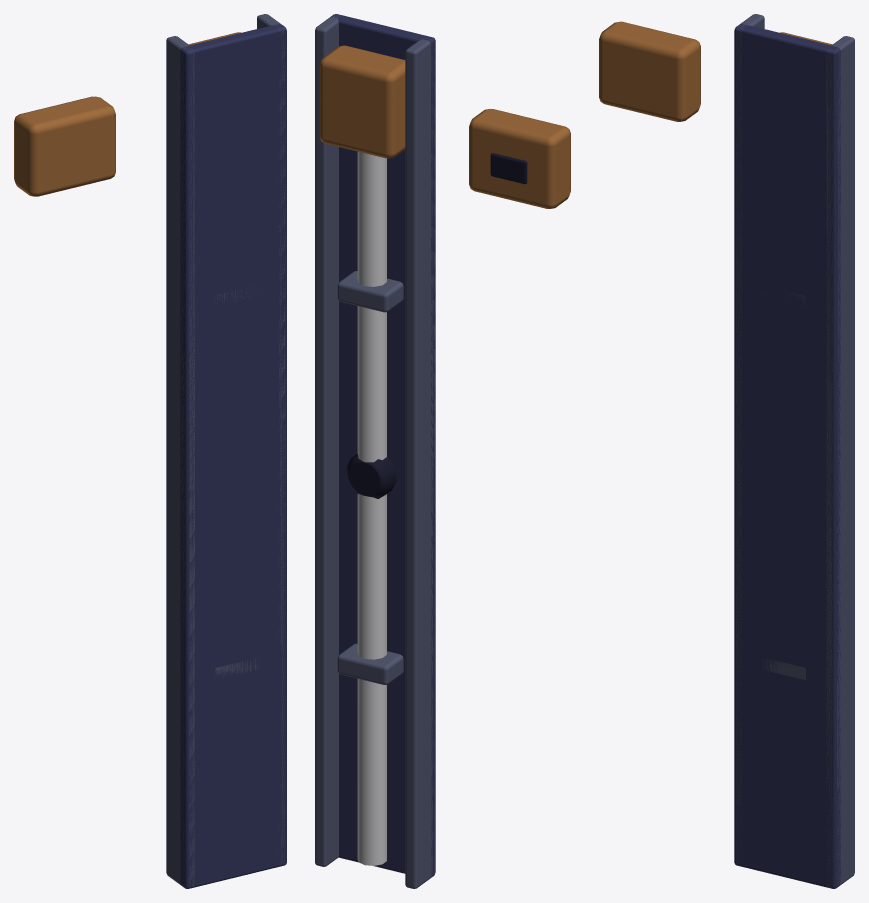
File: prop.props_walls.walls_qa_duct.glb
3 views of the same model, side by side, from view 1: azimuth 30°, elevation 25°; view 2: azimuth 150°, elevation 25°; view 3: azimuth 330°, elevation 25° (orthographic).
Visible parts, largest first — view 1: prop.props_walls.walls_qa_duct; view 2: prop.props_walls.walls_qa_duct; view 3: prop.props_walls.walls_qa_duct.
Boxes of the visible parts, left/top/right/bottom form: prop.props_walls.walls_qa_duct: left=14, top=14, right=286, bottom=888; prop.props_walls.walls_qa_duct: left=315, top=14, right=570, bottom=888; prop.props_walls.walls_qa_duct: left=599, top=14, right=854, bottom=888.
Size of the model in its own units: 0.34 by 1.1 by 0.075.
